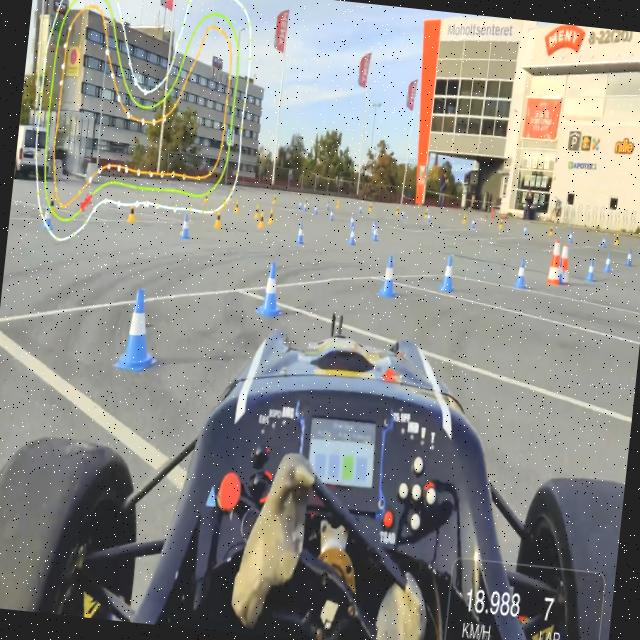blue_cone: (112, 285, 164, 374), (254, 258, 287, 318), (376, 255, 401, 298), (439, 254, 458, 292), (514, 257, 528, 289), (178, 212, 192, 240), (42, 203, 54, 230), (295, 220, 306, 244), (586, 257, 596, 281), (371, 222, 380, 242), (348, 225, 356, 246), (604, 251, 612, 272), (626, 247, 634, 266)
large_orange_cone: (546, 240, 565, 286), (556, 243, 572, 285)
yellow_cone: (126, 200, 137, 222), (213, 208, 223, 229), (266, 208, 275, 225), (258, 210, 266, 228)
